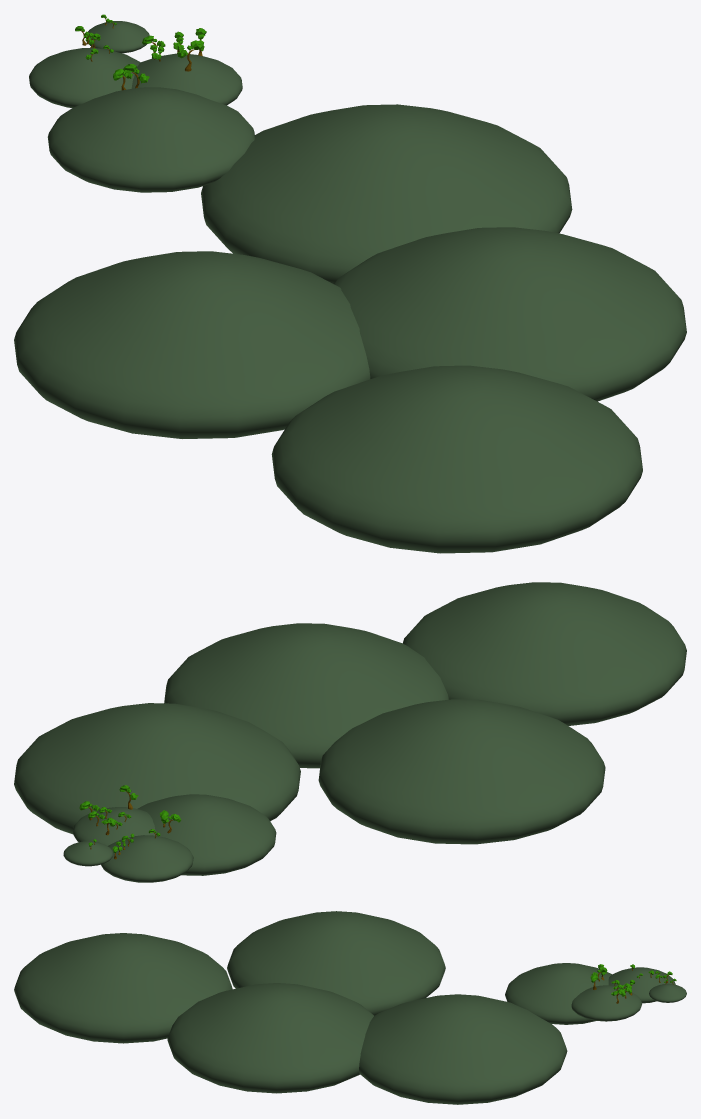
File: mauntain_02.fbx
The picture shows the model from 3 angles, top to bottom: view 1: azimuth 30°, elevation 25°; view 2: azimuth 150°, elevation 25°; view 3: azimuth 270°, elevation 25°; orthographic projection. The views are drawn at different scales.
Visible parts, largest first — view 1: pSphere189, pSphere187, pSphere186, pSphere188, pSphere185, pSphere183, pSphere184, pSphere182; view 2: pSphere187, pSphere189, pSphere186, pSphere188, pSphere185, pSphere183, pSphere184, pSphere182; view 3: pSphere186, pSphere188, pSphere189, pSphere187, pSphere185, pSphere184, pSphere183, pSphere182.
Part boxes in pixels (x1,y1,x2,y2): pSphere189: [271, 365, 642, 553]; pSphere187: [14, 251, 370, 438]; pSphere186: [201, 104, 572, 283]; pSphere188: [334, 227, 686, 401]; pSphere185: [47, 87, 254, 192]; pSphere183: [29, 47, 140, 107]; pSphere184: [131, 53, 242, 105]; pSphere182: [86, 21, 149, 53]; pSphere187: [318, 699, 605, 844]; pSphere189: [403, 582, 686, 725]; pSphere186: [14, 703, 300, 834]; pSphere188: [164, 623, 448, 768]; pSphere185: [137, 794, 276, 875]; pSphere183: [101, 835, 193, 882]; pSphere184: [73, 807, 155, 845]; pSphere182: [63, 841, 112, 866]; pSphere186: [359, 994, 567, 1104]; pSphere188: [167, 983, 373, 1093]; pSphere189: [14, 933, 232, 1043]; pSphere187: [227, 911, 445, 1015]; pSphere185: [505, 963, 611, 1024]; pSphere184: [571, 985, 641, 1021]; pSphere183: [608, 967, 675, 1003]; pSphere182: [649, 983, 686, 1002].
Bounding box in the file's own units: 2443 × 3956 × 493.
